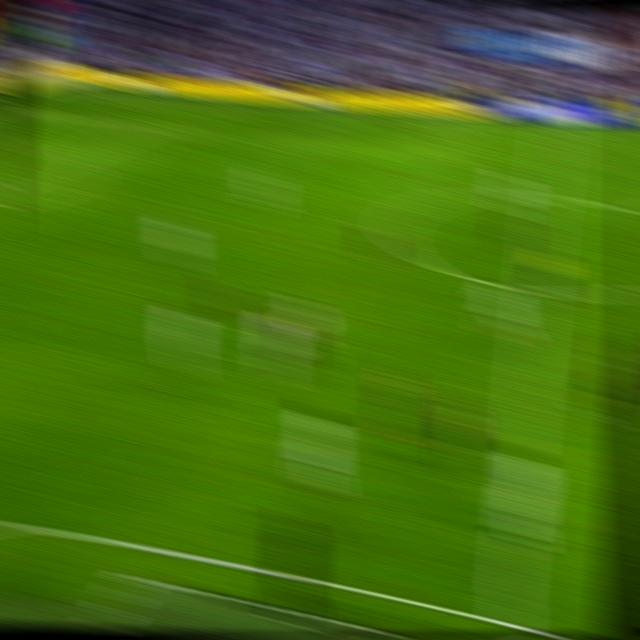halfcircle_bottom: (521, 272, 553, 310)
halfcircle_top: (531, 181, 562, 212)
midline_bottom_intersection: (490, 597, 526, 638)
midline_top_intersection: (538, 118, 569, 139)
top_arc_area_intersection: (60, 146, 87, 164)
